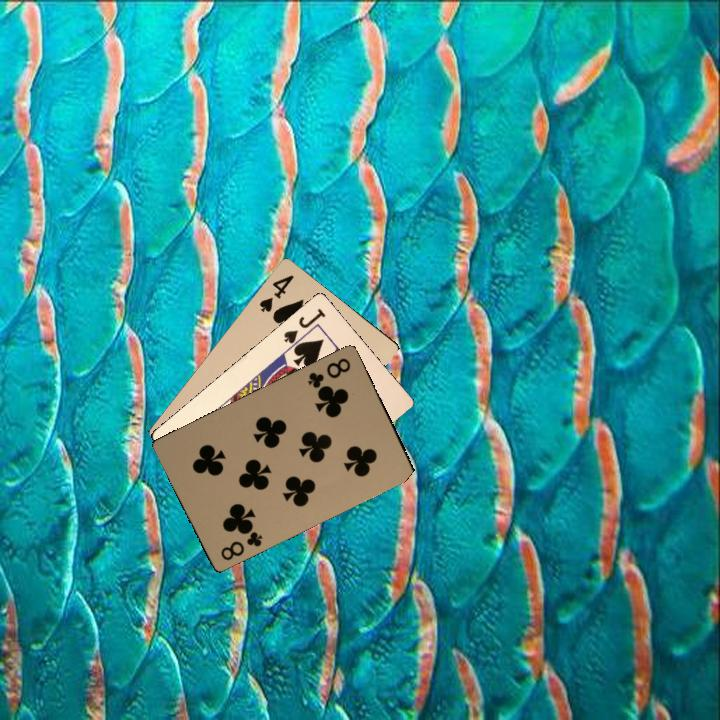4s: (255, 271, 296, 315)
8c: (216, 523, 265, 563), (304, 354, 353, 392)
Js: (279, 304, 328, 350)
